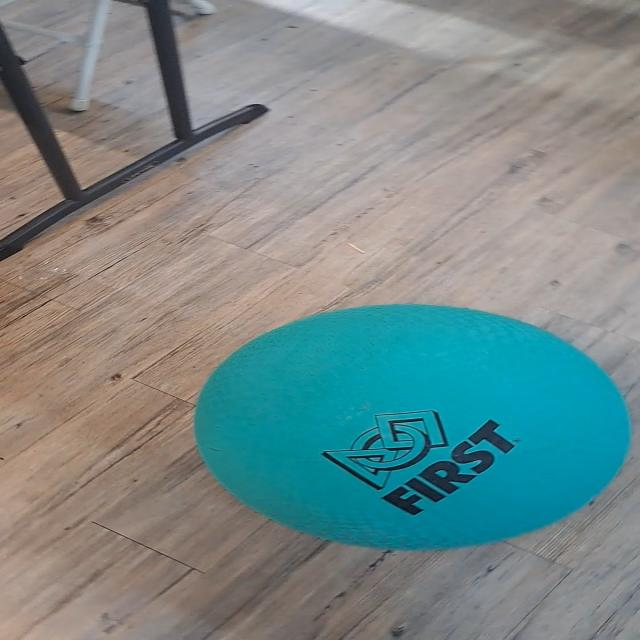ALGAE: (190, 302, 632, 552)
